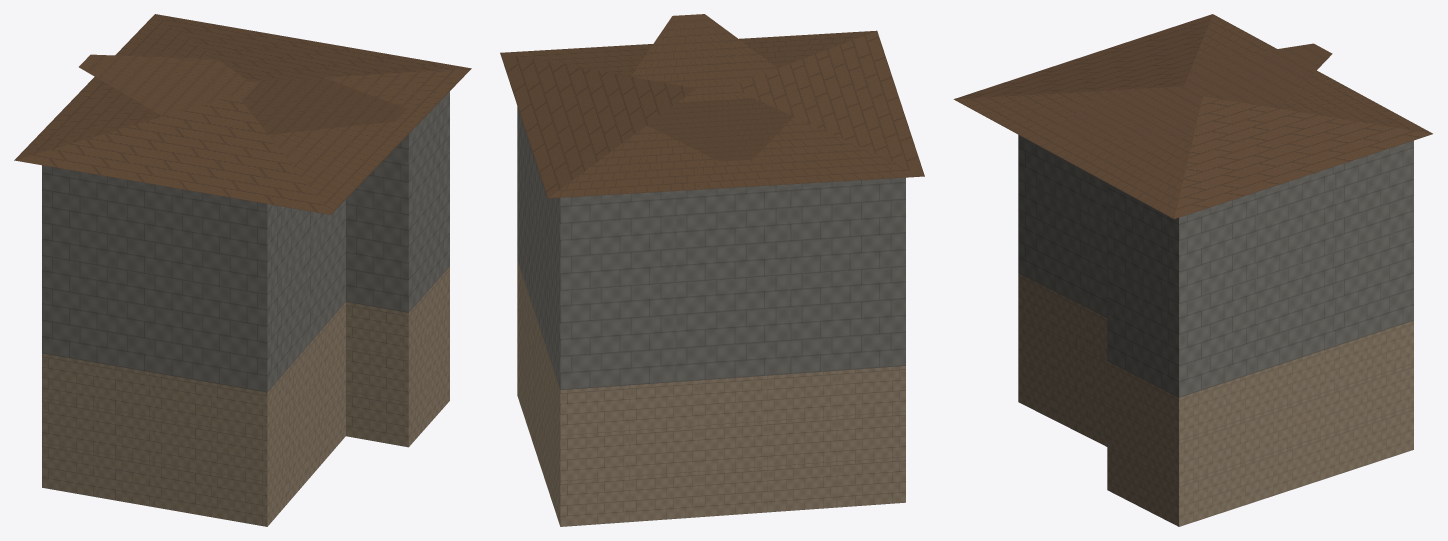
Rendered from bld_c19_30_372.gltf.
3 views of the same model, side by side, from view 1: azimuth 30°, elevation 25°; view 2: azimuth 150°, elevation 25°; view 3: azimuth 270°, elevation 25° (orthographic). The views are drawn at different scales.
Visible parts, largest first — view 1: bld_c19_30_372; view 2: bld_c19_30_372; view 3: bld_c19_30_372.
Boxes of the visible parts, <box> form: bld_c19_30_372: <box>14,14,471,526</box>; bld_c19_30_372: <box>500,14,924,526</box>; bld_c19_30_372: <box>953,14,1432,526</box>.
Size of the model in its own units: 17.37 by 13.5 by 17.18.
3 materials, 3 textured.
